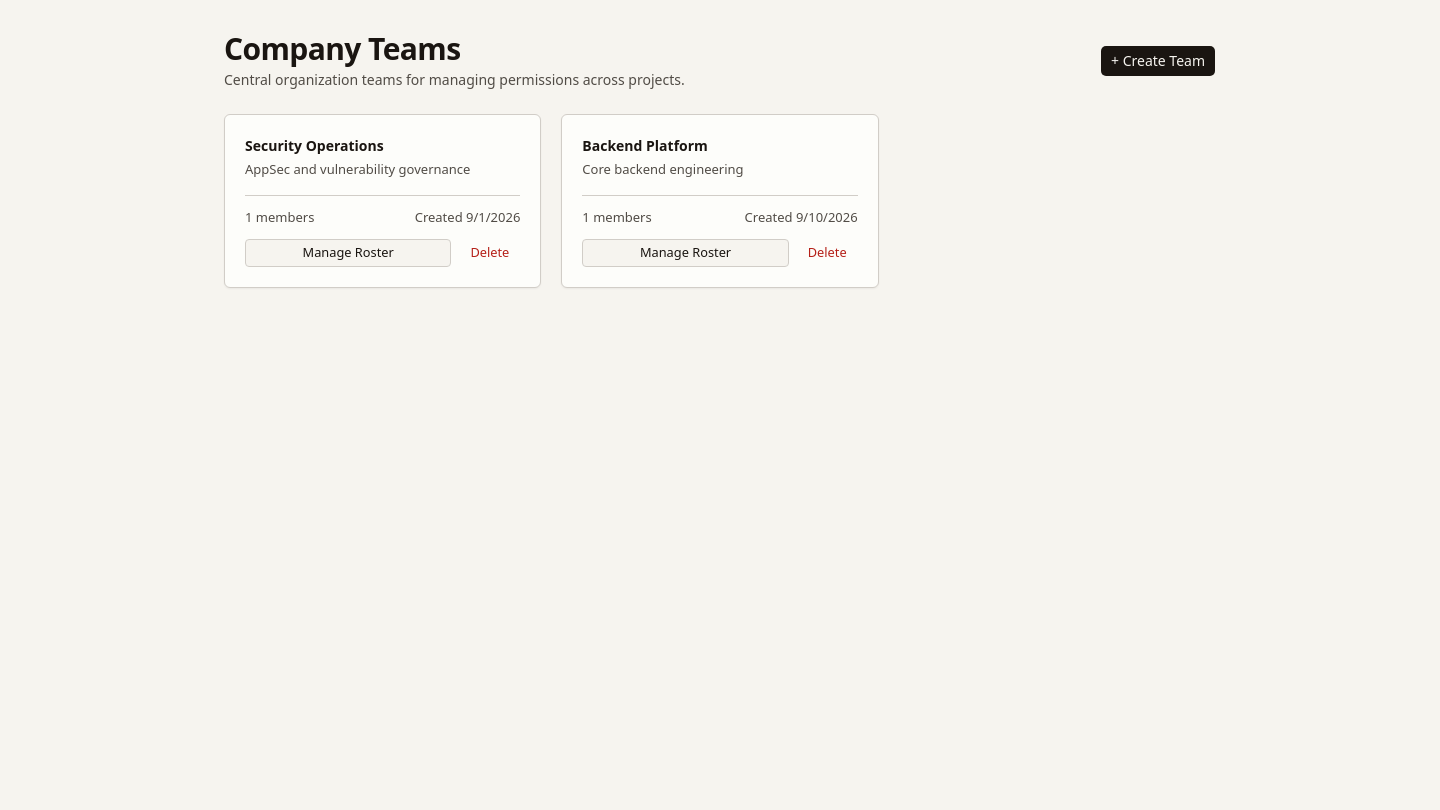
Test: TeamsDirectory › shows the server message when the user does not exist
The width and height of the screenshot is (1440, 810).
Click the button "Manage Roster" below "9/1/2026": (348, 253) [245, 239, 451, 267]
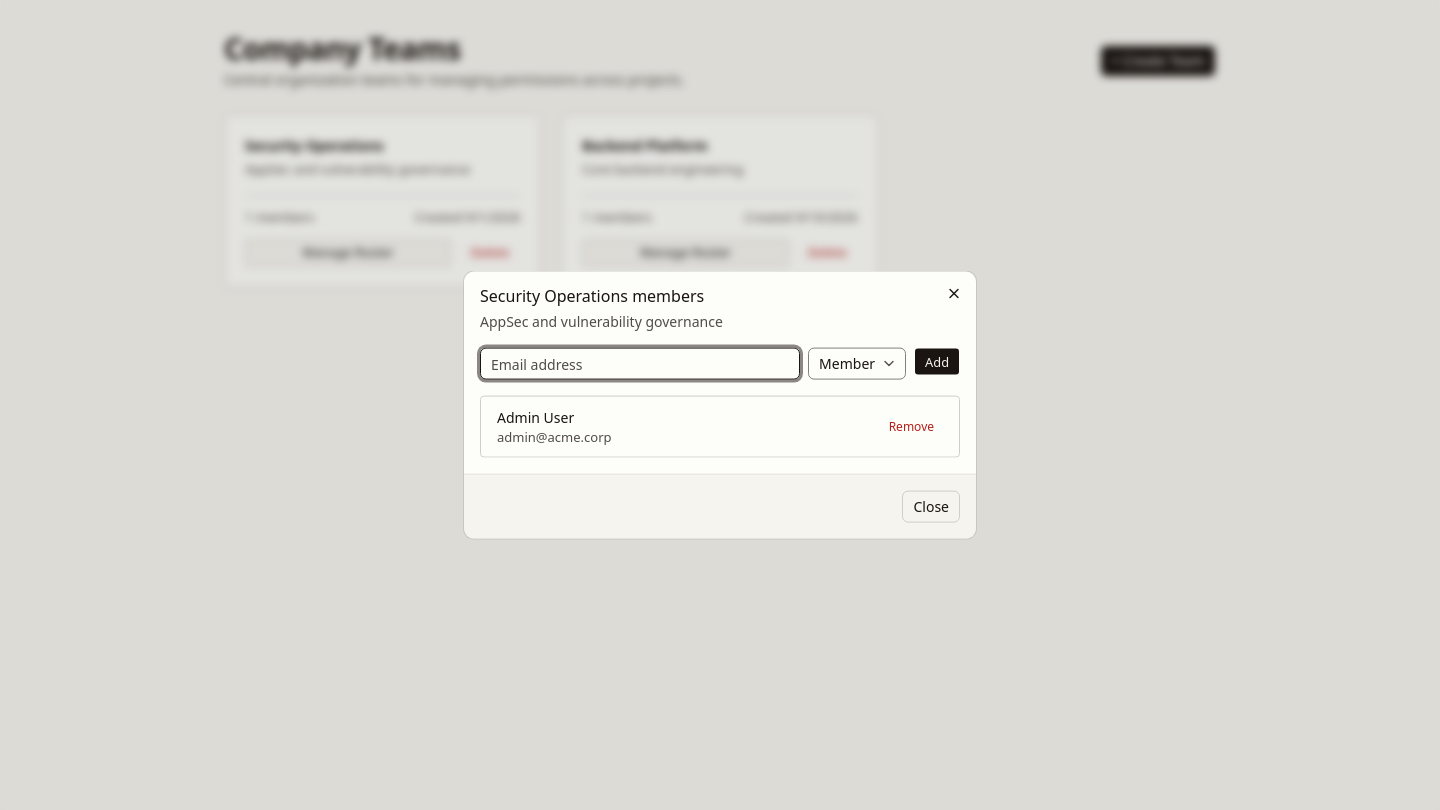
In the dropdown labelled "Email address": (640, 364) [480, 348, 800, 380], type "ada@acme.example"
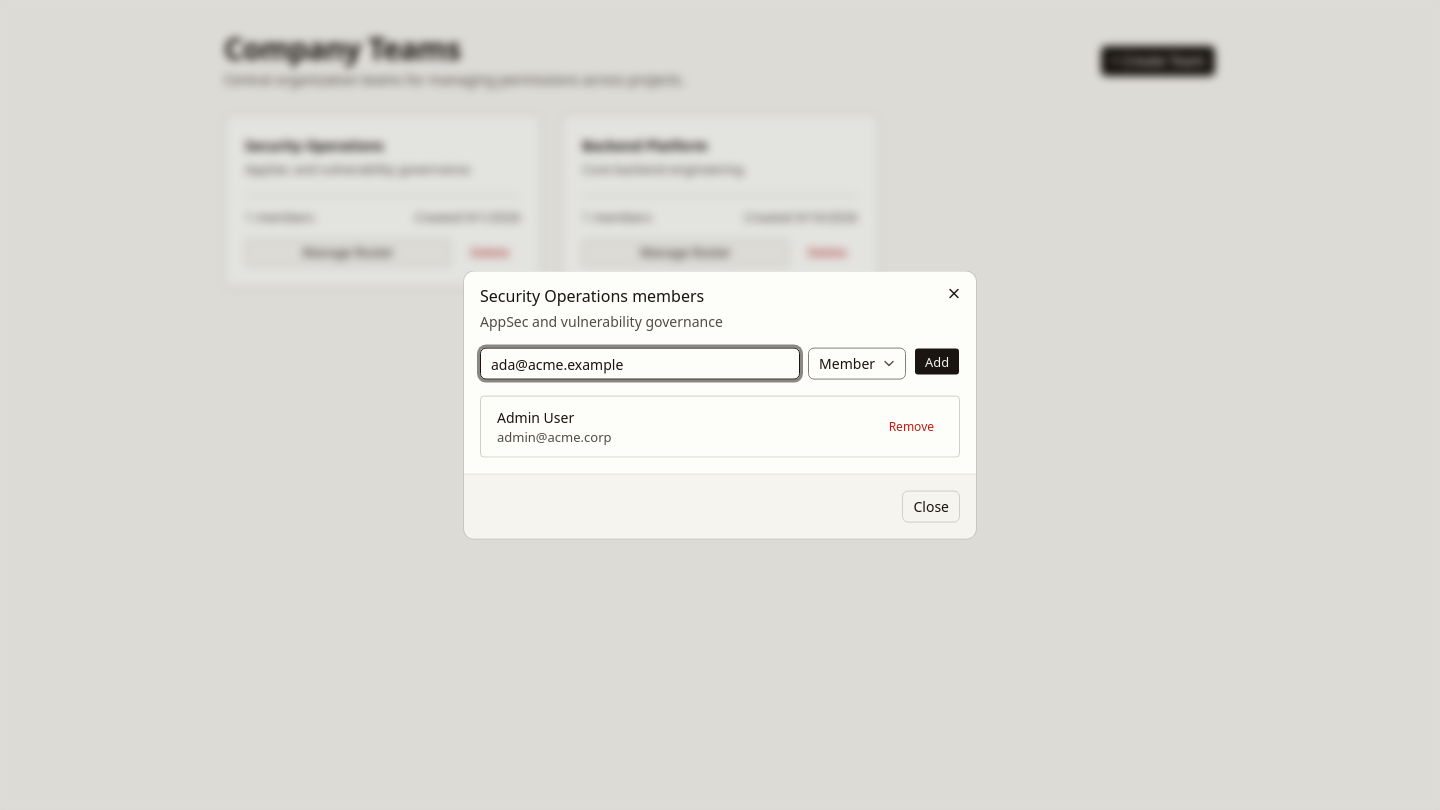
Click the button "Add": (937, 362) [914, 348, 960, 376]
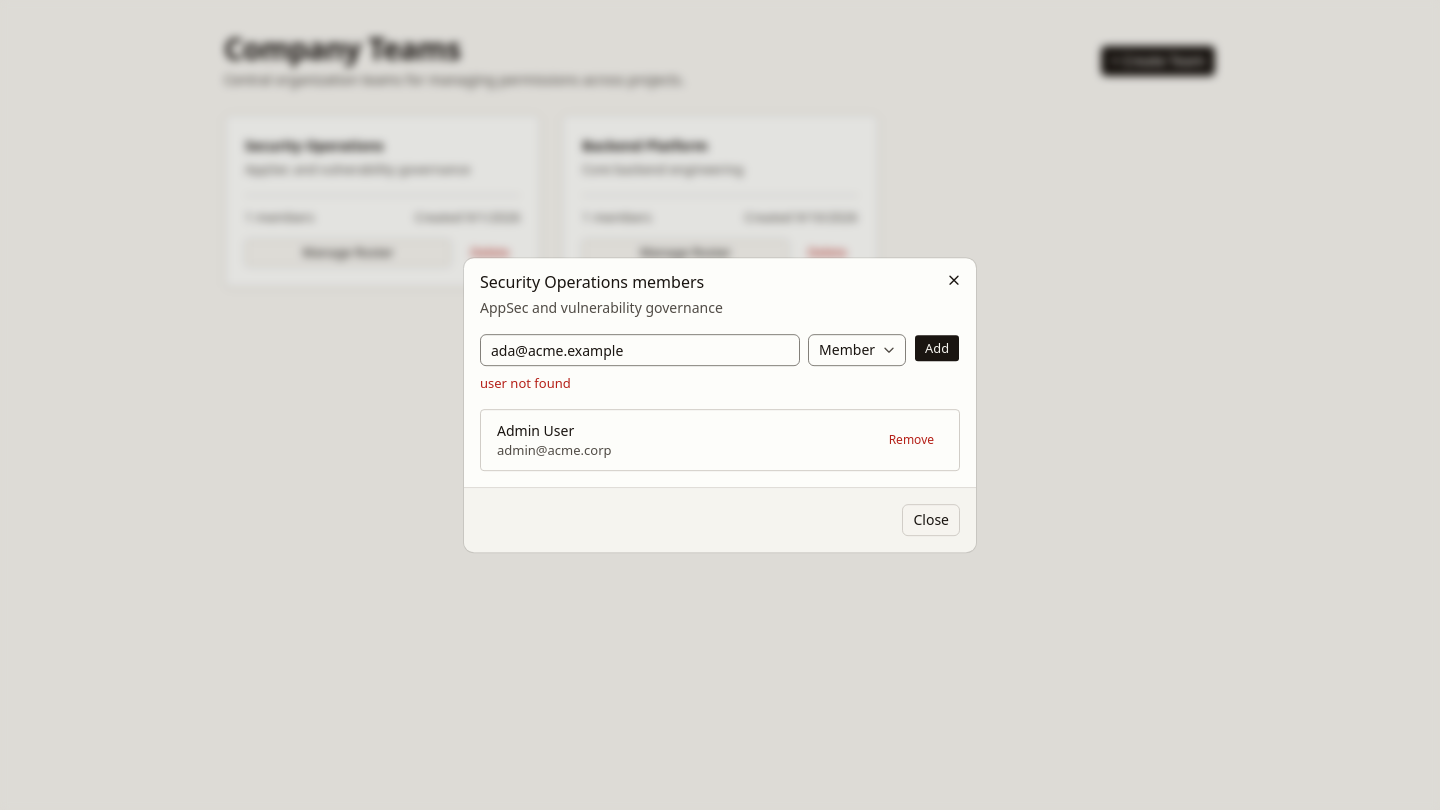
Now the text "user not found" is shown, box [480, 374, 571, 392]
